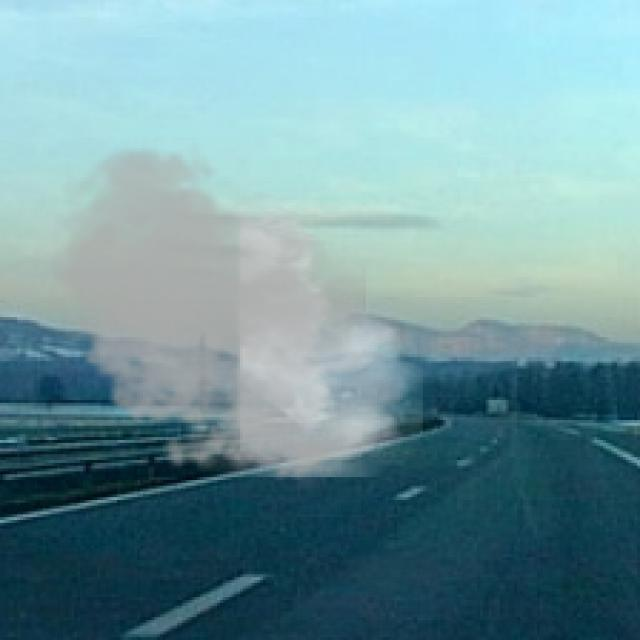Smoke: (34, 140, 423, 492)
